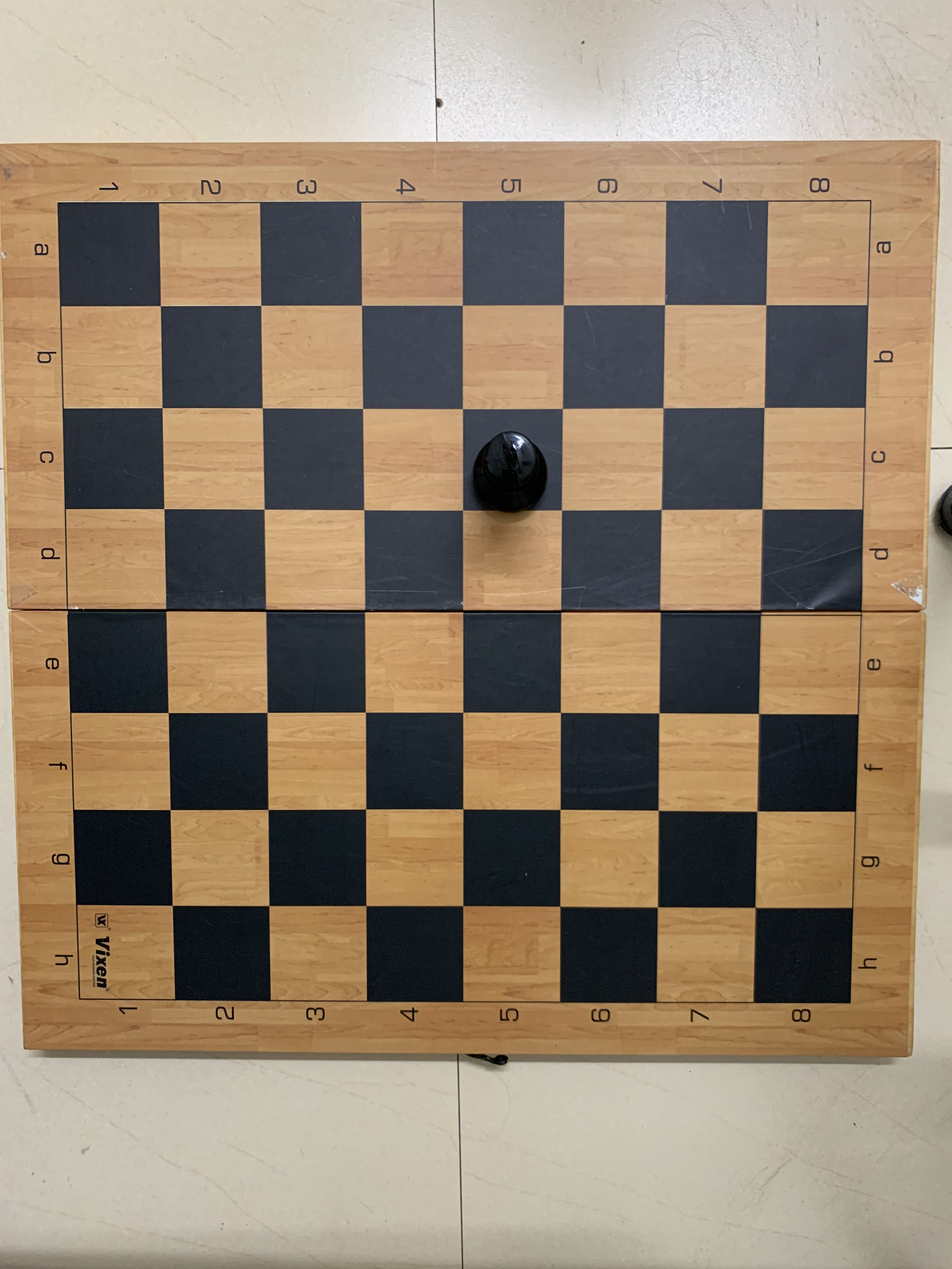black_king: (468, 405, 564, 512)
